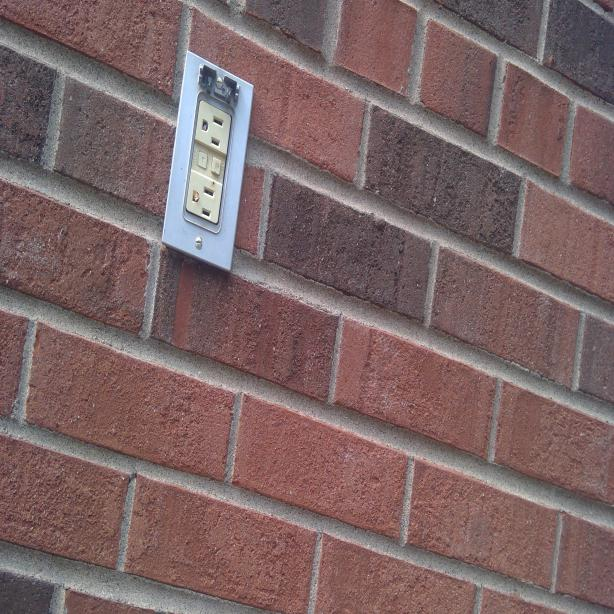typeb: (190, 173, 218, 232), (200, 107, 226, 158)
